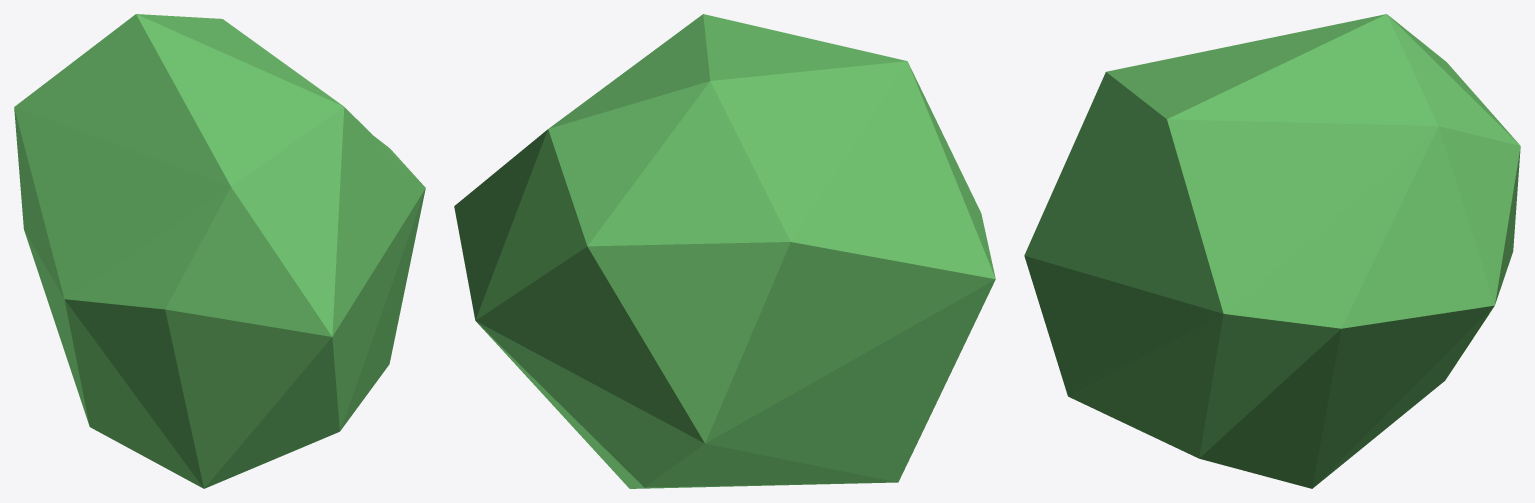
The model's file is bush_1_-_low_poly.glb.
The picture shows the model from 3 angles, left to right: view 1: azimuth 30°, elevation 25°; view 2: azimuth 150°, elevation 25°; view 3: azimuth 270°, elevation 25°; orthographic projection. The views are drawn at different scales.
Visible parts, largest first — view 1: Icosphere.001; view 2: Icosphere.001; view 3: Icosphere.001.
Part boxes in pixels (left/top/right/bottom): Icosphere.001: left=14, top=14, right=425, bottom=488; Icosphere.001: left=454, top=14, right=995, bottom=488; Icosphere.001: left=1024, top=14, right=1520, bottom=488.
Bounding box in the file's own units: 495 × 474 × 506.
